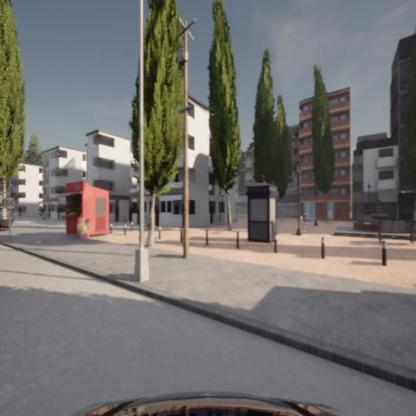traffic_sign_60: (2, 196, 18, 210)
